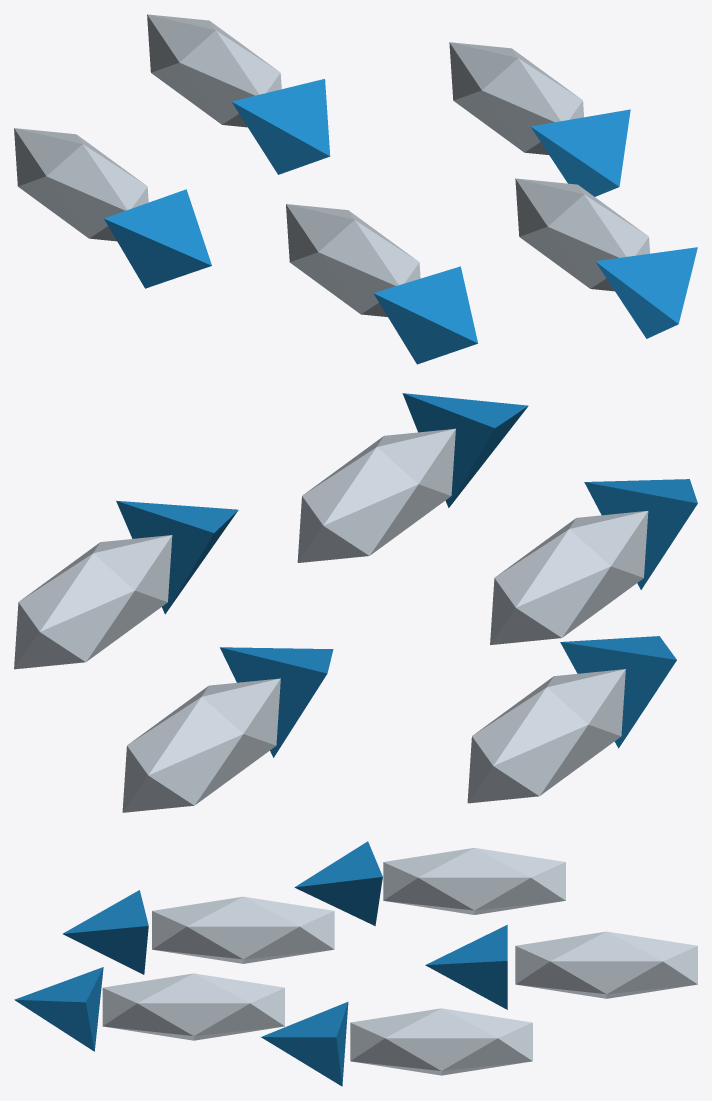
File: lambaris.glb
The picture shows the model from 3 angles, top to bottom: view 1: azimuth 30°, elevation 25°; view 2: azimuth 150°, elevation 25°; view 3: azimuth 270°, elevation 25°; orthographic projection. The views are drawn at different scales.
Parts seen in each view (by area): view 1: corpo; view 2: corpo; view 3: corpo.
Part boxes in pixels (bbox=[...]): corpo: bbox=[14, 14, 697, 364]; corpo: bbox=[14, 393, 697, 812]; corpo: bbox=[14, 841, 697, 1086].
Bounding box in the file's own units: 0.2813 × 0.0525 × 0.4142.
